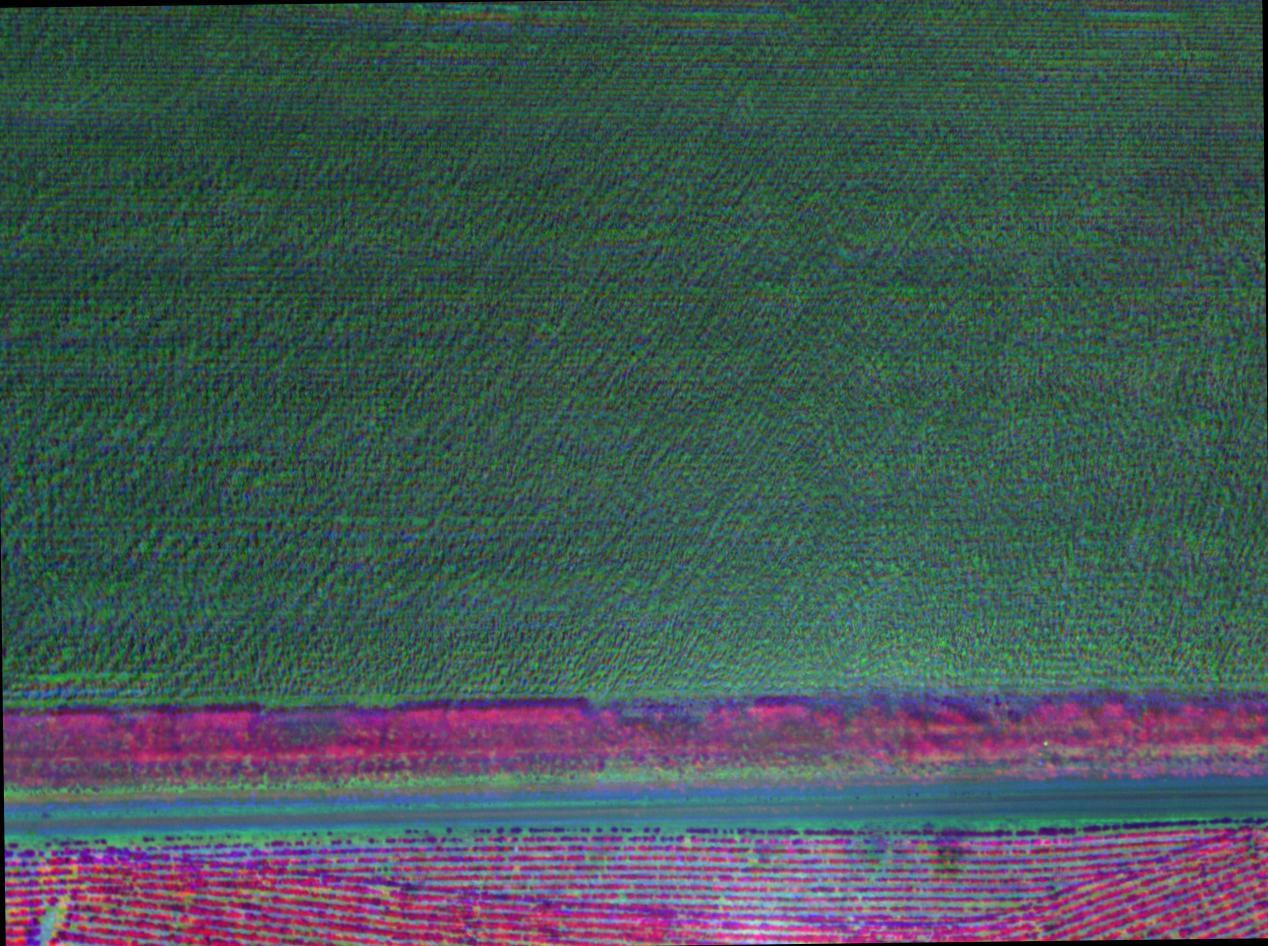dc: (911, 800, 1021, 891), (19, 859, 112, 946)
